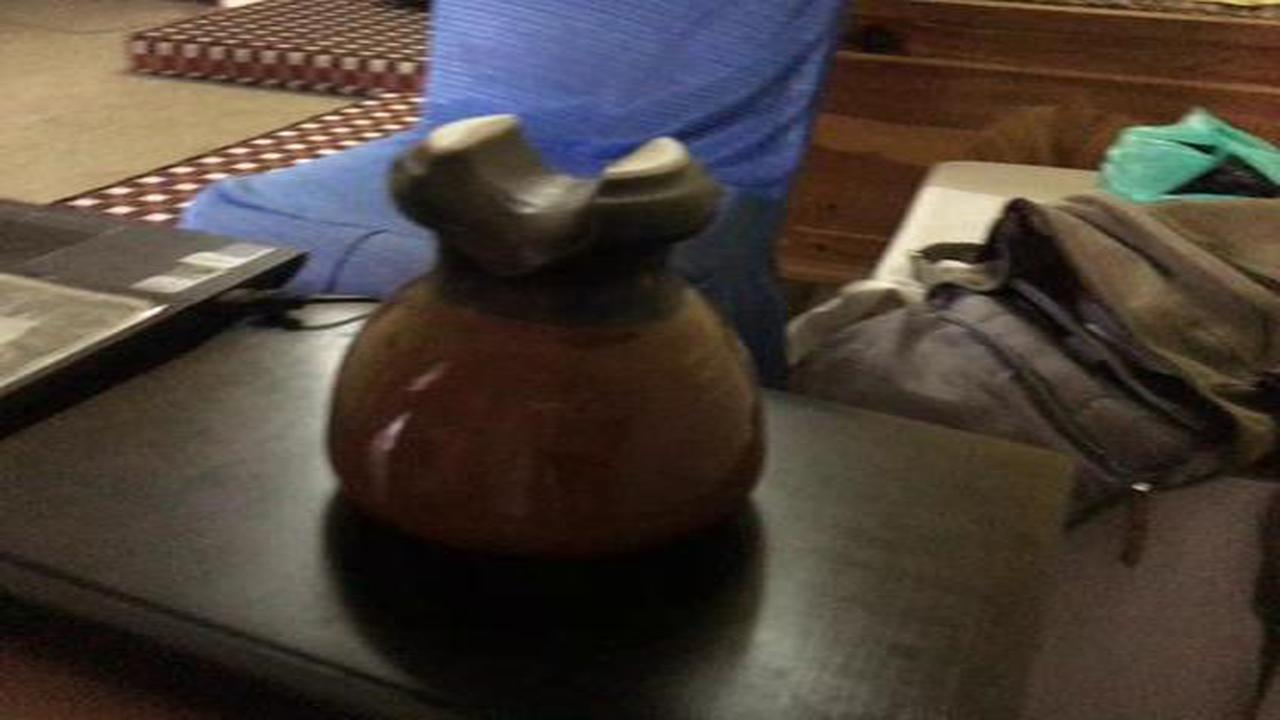insulator_pin: (308, 90, 813, 596)
